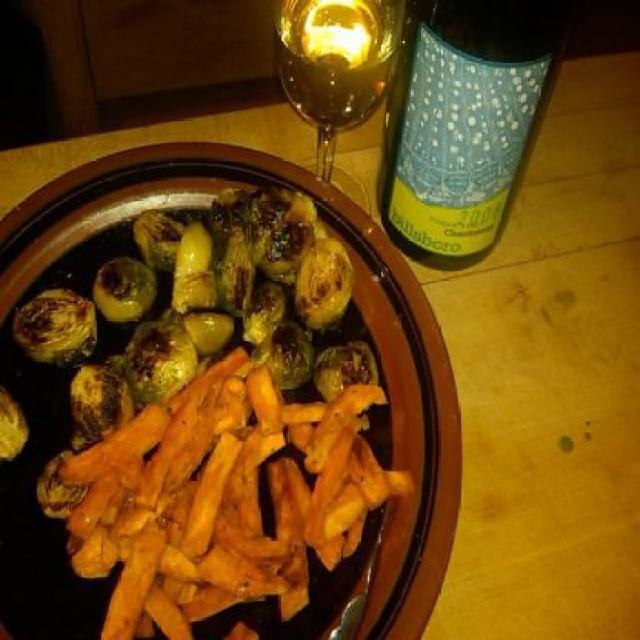French fries: (66, 286, 388, 604)
